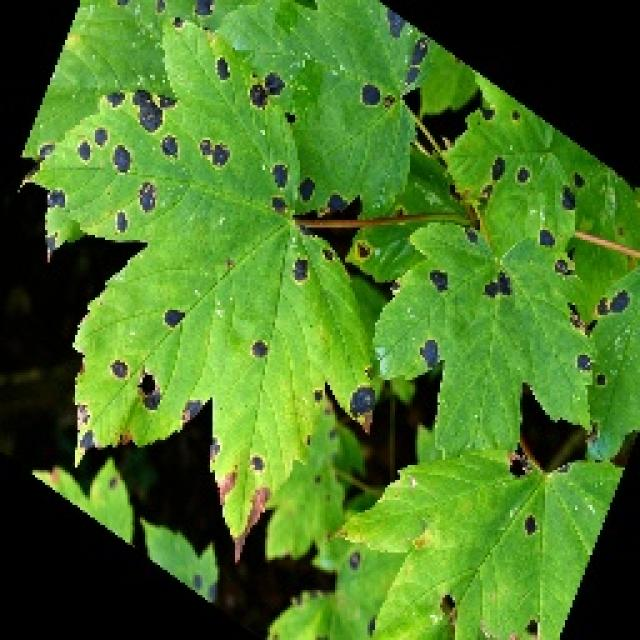Tar_Spot: (45, 1, 612, 576)
